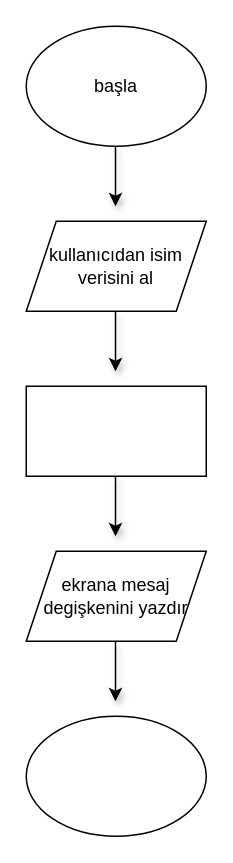
Image size: 233x863. Some labels were removed from this diagram. Each missing label, with the centre of its shape:
dur: the point at 115,775
mesaj = hoş geldiniz sayın + isim: the point at 115,430
